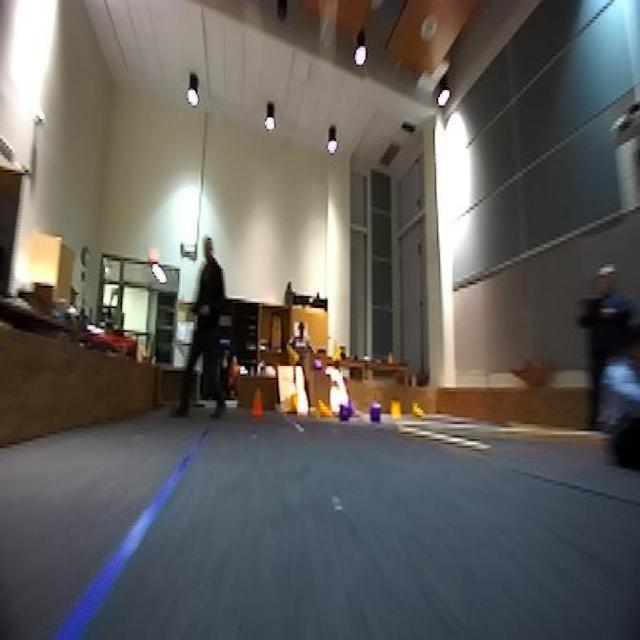frc_cone: (314, 400, 334, 424), (389, 398, 401, 426), (412, 405, 428, 426), (330, 339, 343, 364), (288, 345, 303, 366), (289, 392, 301, 416)
frc_cube: (368, 400, 382, 426), (311, 354, 326, 375), (338, 402, 351, 424)
